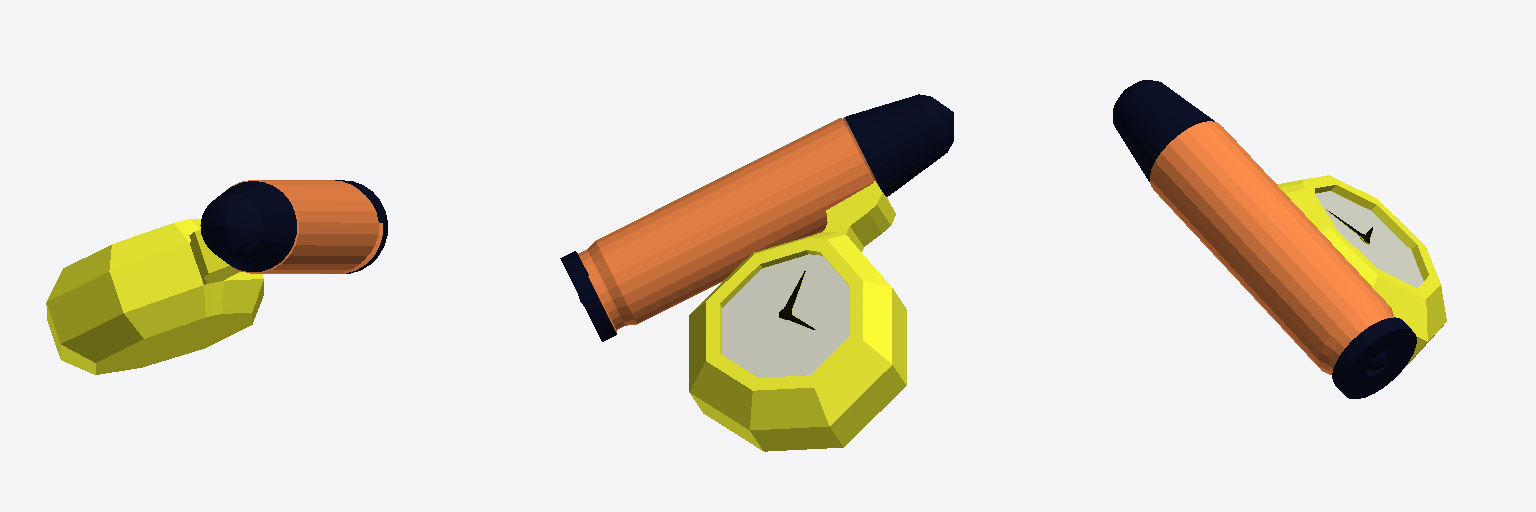
The model's file is velocidadbala.obj.
The picture shows the model from 3 angles: view 1: azimuth 30°, elevation 25°; view 2: azimuth 150°, elevation 25°; view 3: azimuth 270°, elevation 25°; orthographic projection.
Visible parts, largest first — view 1: polySurface9; view 2: polySurface9; view 3: polySurface9.
Part boxes in pixels (bbox=[...]): polySurface9: bbox=[46, 180, 387, 374]; polySurface9: bbox=[560, 94, 953, 451]; polySurface9: bbox=[1113, 80, 1446, 398].
Size of the model in its own units: 1.62 by 1.22 by 1.41.